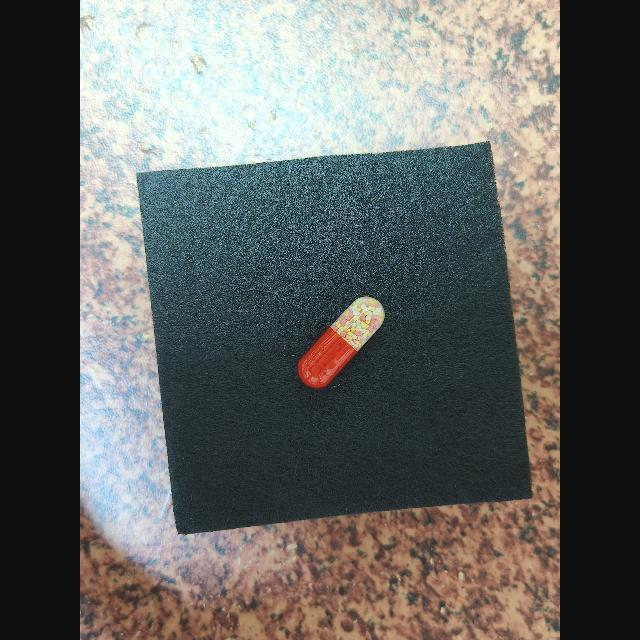Intact Capsule: (297, 296, 385, 388)
